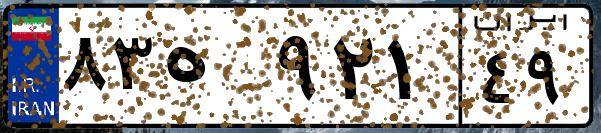1: (385, 28, 445, 110)
2: (330, 28, 385, 110)
3: (110, 28, 158, 98)
4: (475, 38, 525, 113)
8: (57, 26, 110, 100)
9: (270, 28, 330, 110), (525, 38, 570, 115)
ه: (158, 20, 270, 120)
